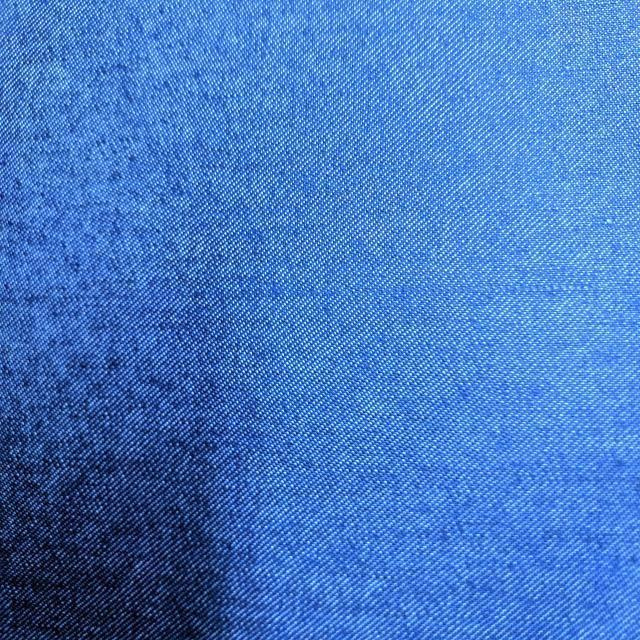Line: (226, 278, 591, 302)
